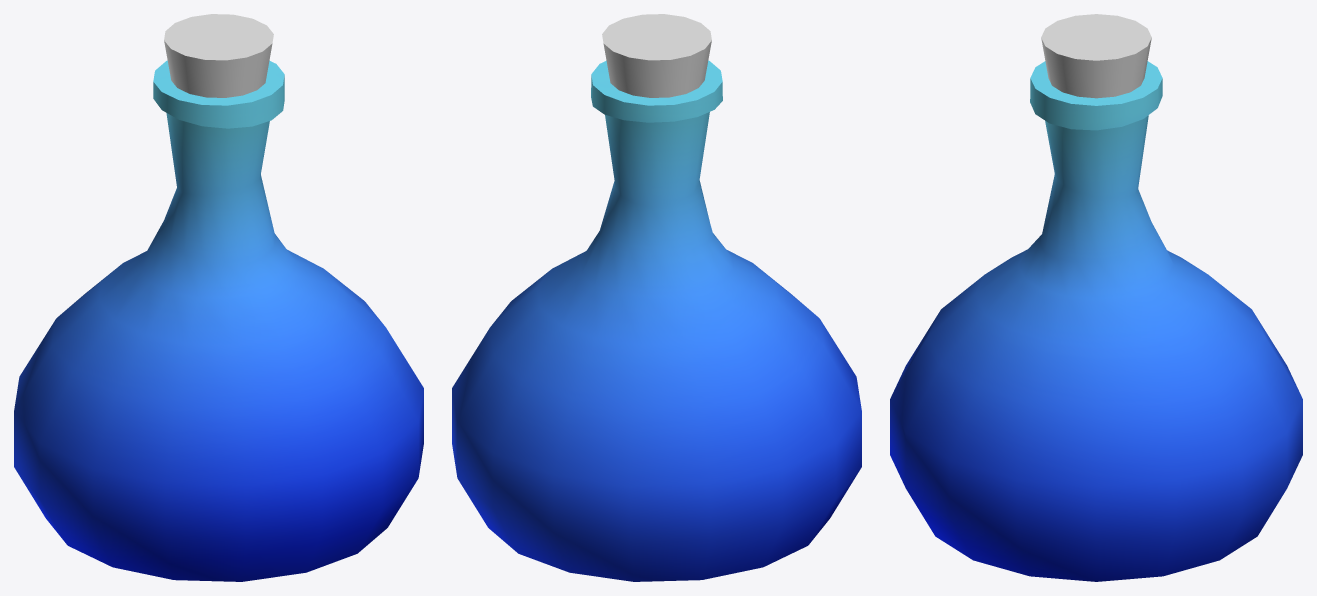
The model's file is ManaBottle.fbx.
3 views of the same model, side by side, from view 1: azimuth 30°, elevation 25°; view 2: azimuth 150°, elevation 25°; view 3: azimuth 270°, elevation 25° (orthographic).
Parts seen in each view (by area): view 1: Potion Blue; view 2: Potion Blue; view 3: Potion Blue.
Boxes of the visible parts, x1=… form: Potion Blue: x1=14, y1=14, x2=423, y2=581; Potion Blue: x1=452, y1=14, x2=861, y2=581; Potion Blue: x1=890, y1=14, x2=1302, y2=581.
Bounding box in the file's own units: 18.98 × 23.89 × 18.98.
